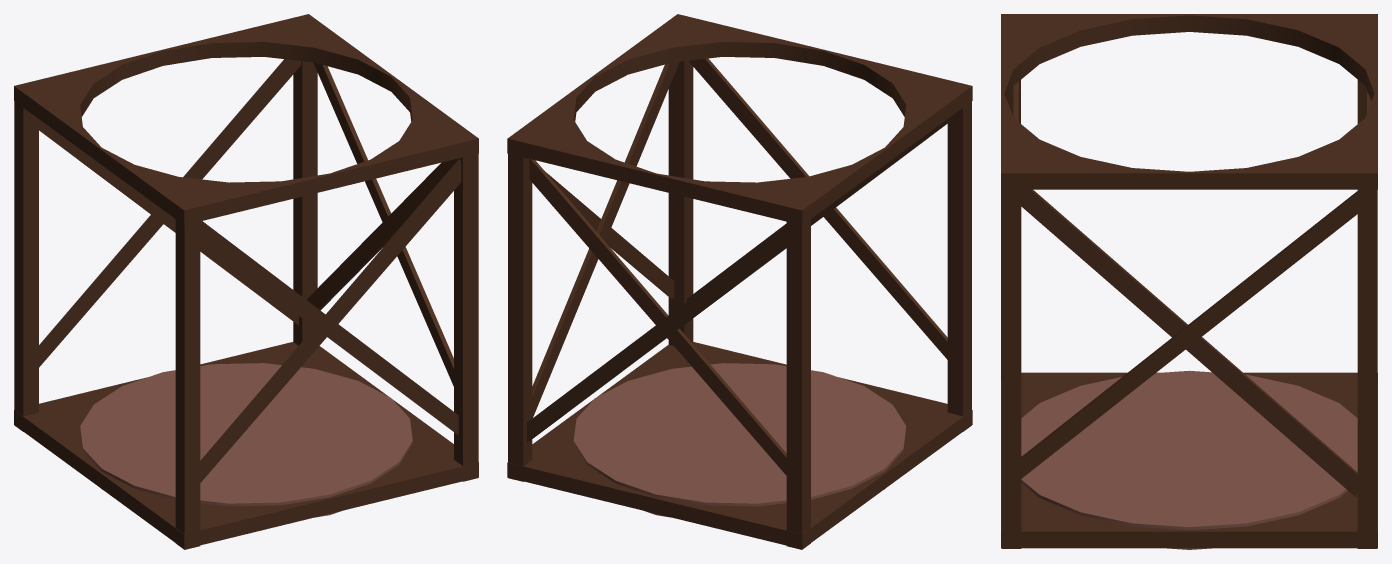
Rendered from EstructuraDoble.fbx.
3 renders of one model, left to right at view 1: azimuth 30°, elevation 25°; view 2: azimuth 150°, elevation 25°; view 3: azimuth 270°, elevation 25°, orthographic. The views are drawn at different scales.
Parts seen in each view (by area): view 1: polySurface33, pCylinder2; view 2: polySurface33, pCylinder2; view 3: polySurface33, pCylinder2.
Part boxes in pixels (x1,y1,x2,y2): polySurface33: (14, 14, 478, 549); pCylinder2: (80, 363, 412, 517); polySurface33: (507, 14, 972, 549); pCylinder2: (573, 363, 906, 517); polySurface33: (1001, 14, 1377, 548); pCylinder2: (1021, 370, 1357, 549).
Bounding box in the file's own units: 14.03 × 15.54 × 14.03.
